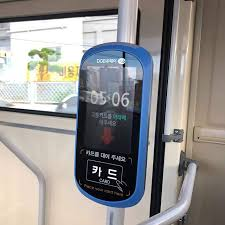terminal: (71, 39, 158, 210)
